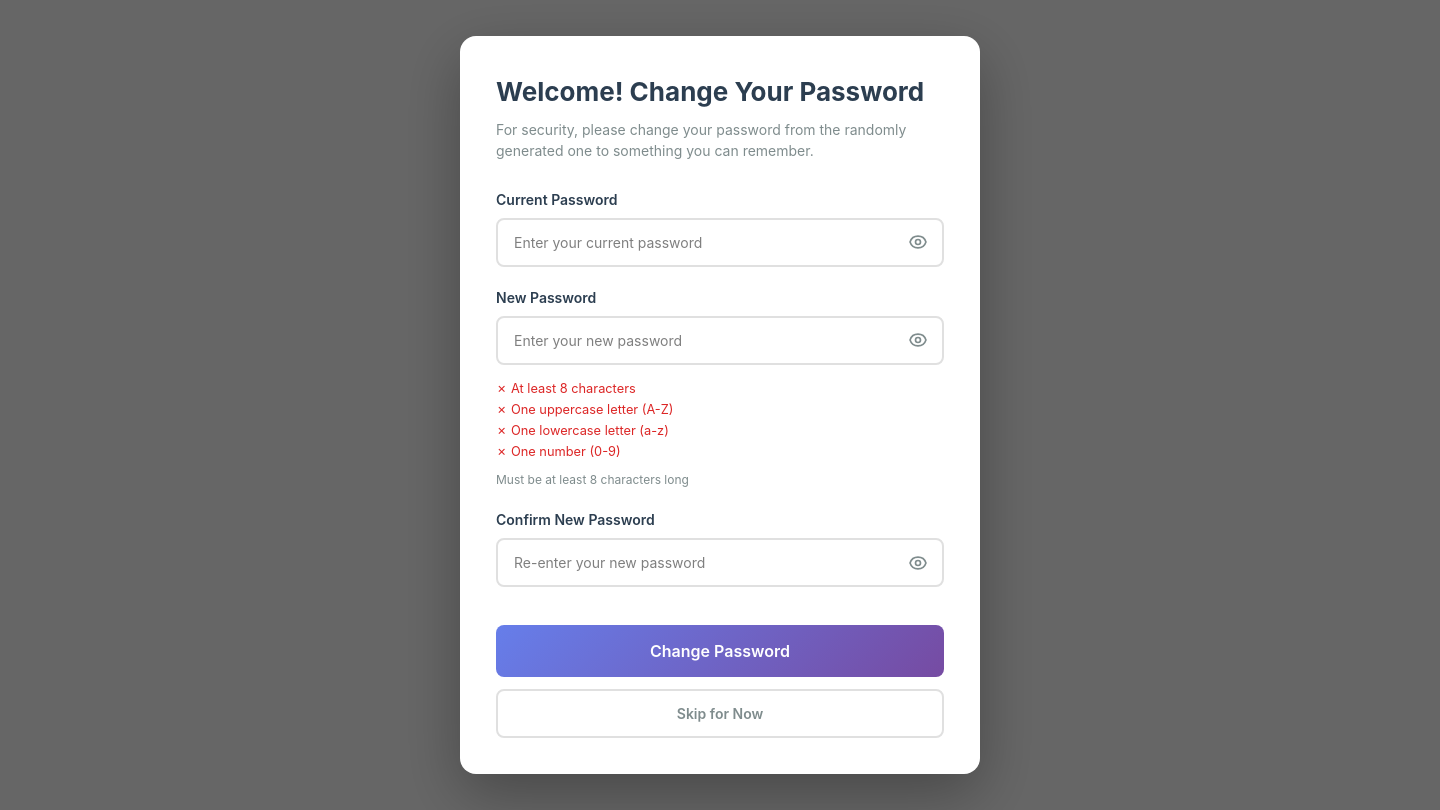
Test: FirstLoginModal Component › Form Validation › should clear error message when user types again
Trigger an error
Type "OldPass123!" into the password field labelled "Current Password" at (720, 242), box left=496, top=218, right=944, bottom=267
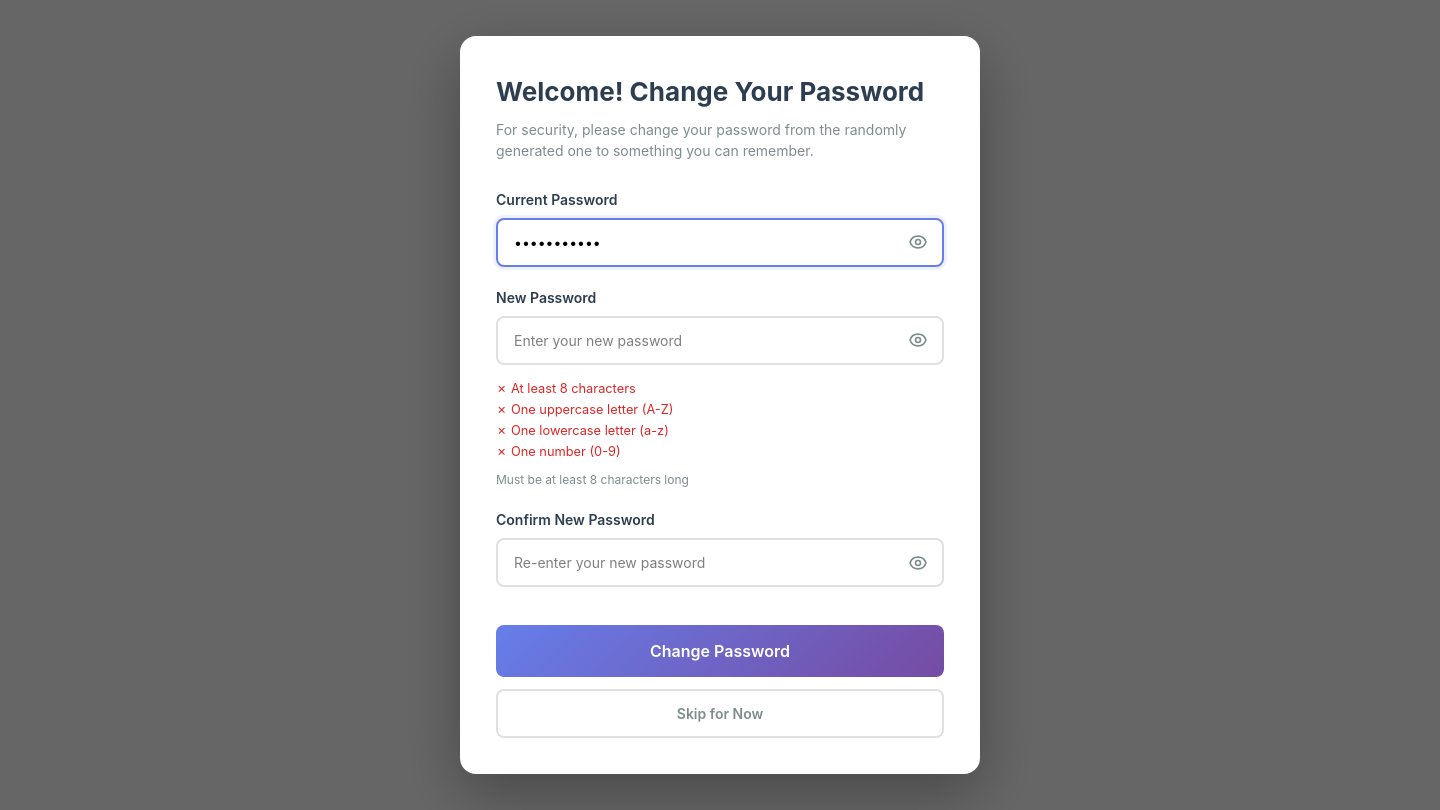
Type "NewPass456!" into the password field labelled "New Password" at (720, 340), box left=496, top=316, right=944, bottom=365
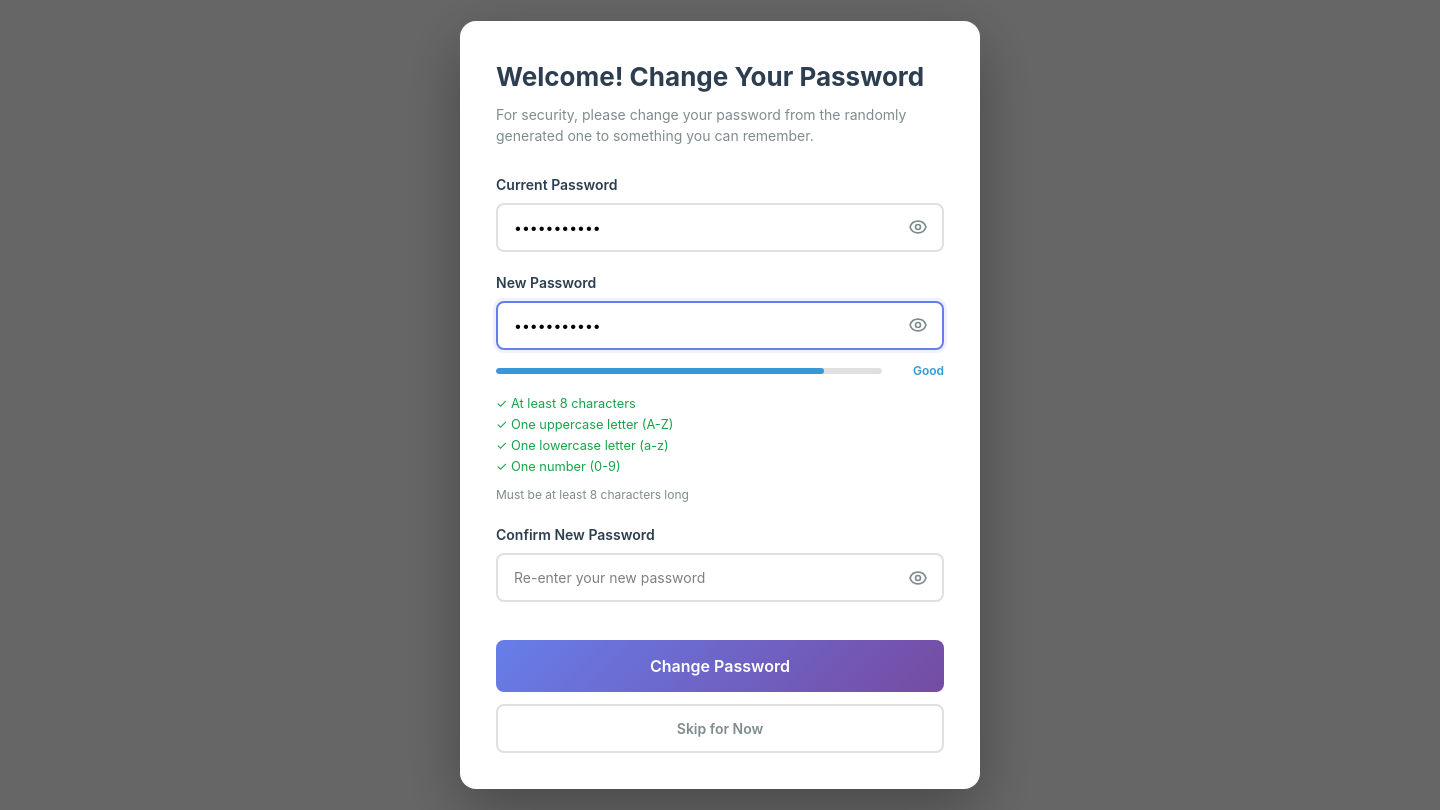
Type "DifferentPass!" into the password field labelled "Confirm New Password" at (720, 578), box left=496, top=553, right=944, bottom=602
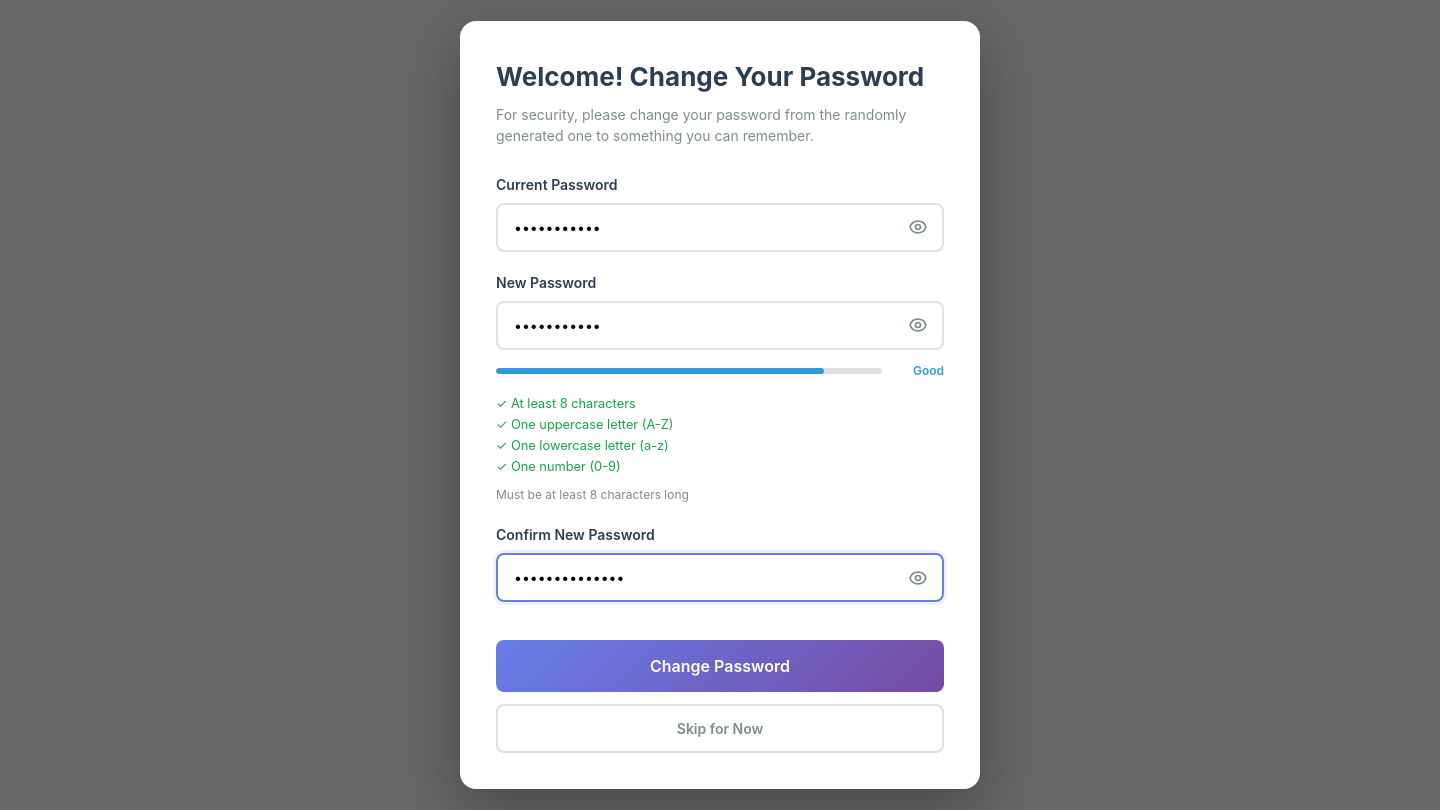
Click the button "Change Password" at (720, 666), box left=496, top=640, right=944, bottom=692
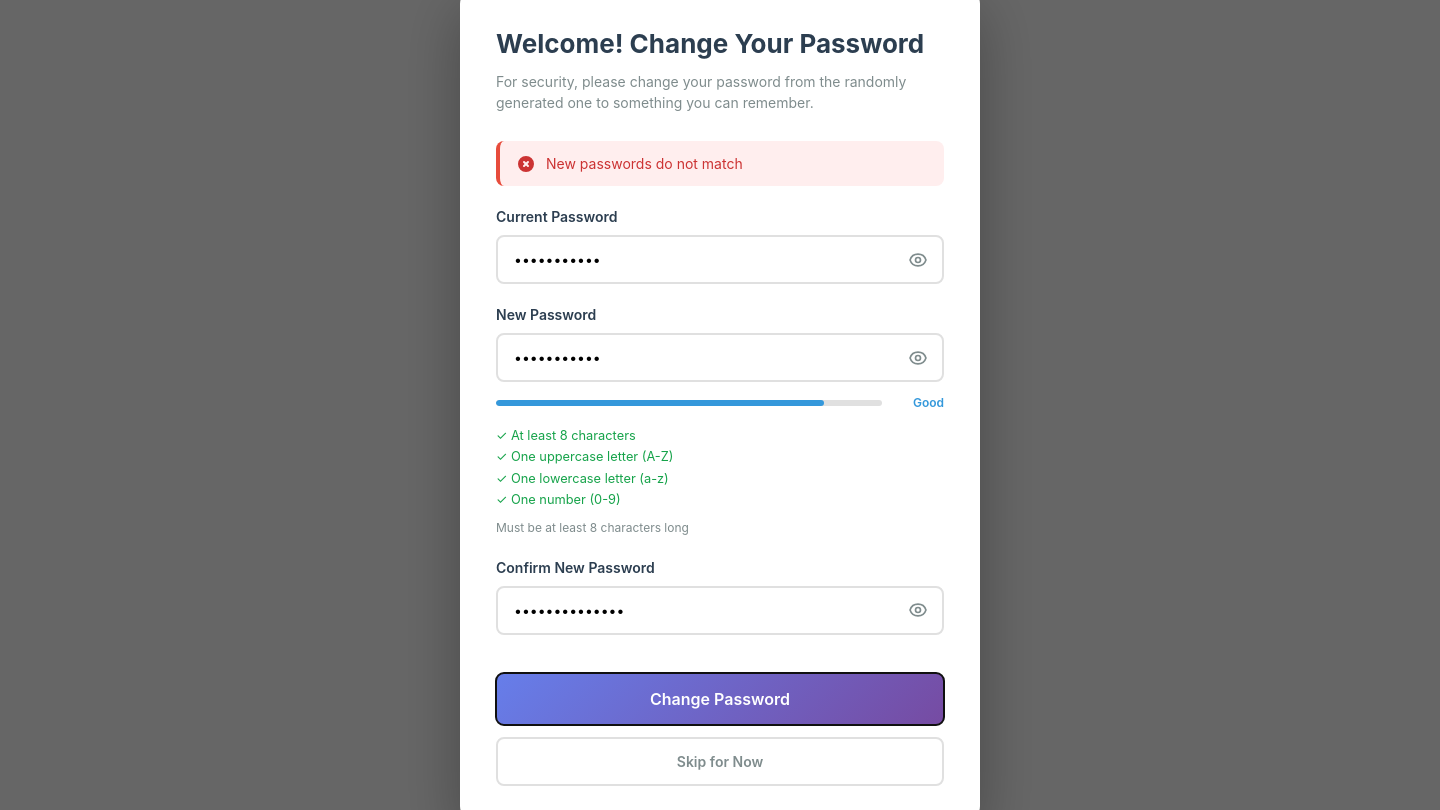
Check: the text "New passwords do not match" is shown, box left=496, top=141, right=944, bottom=186
Type again to clear error
Type "!" into the password field labelled "New Password" at (720, 358), box left=496, top=333, right=944, bottom=382
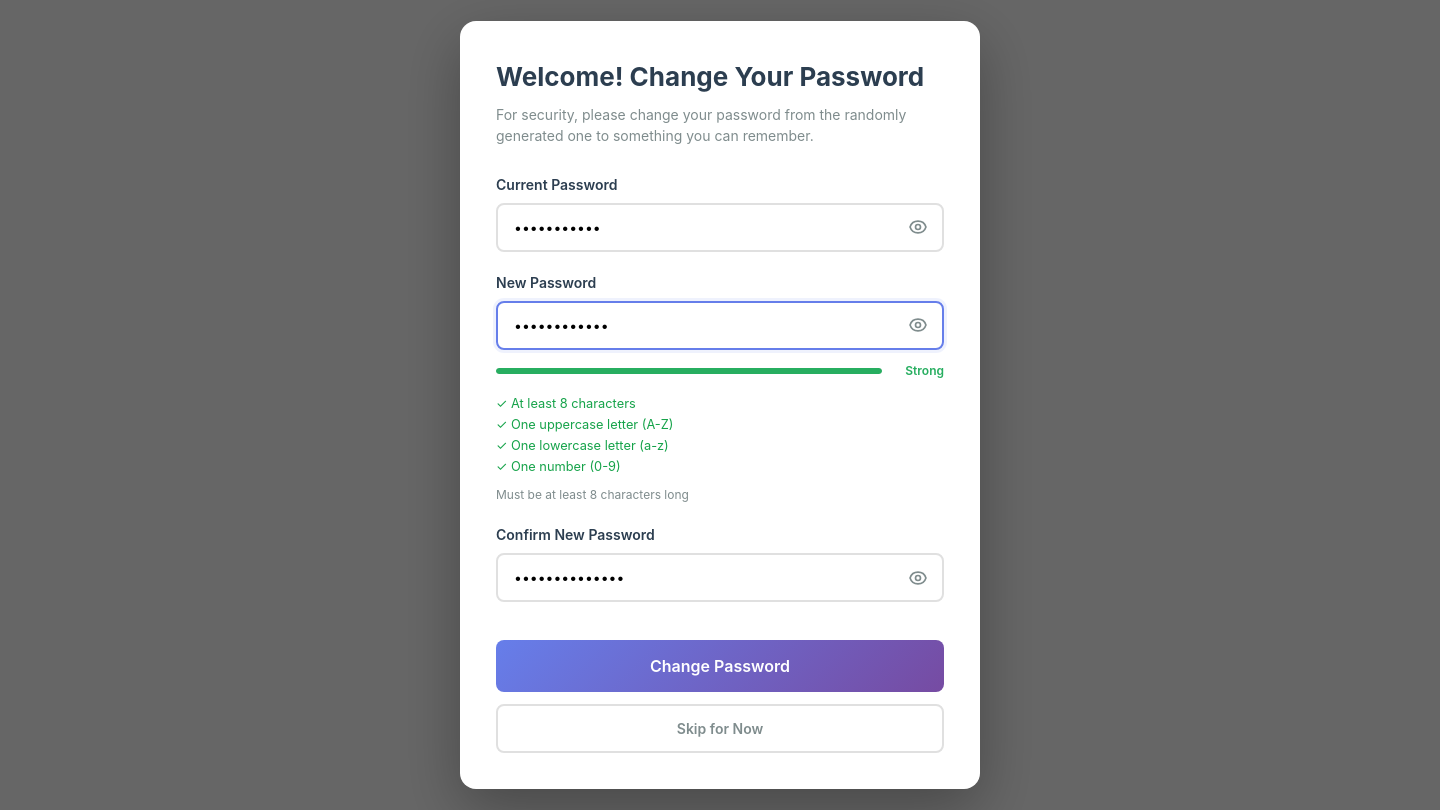
Check: the text "New passwords do not match" is gone
